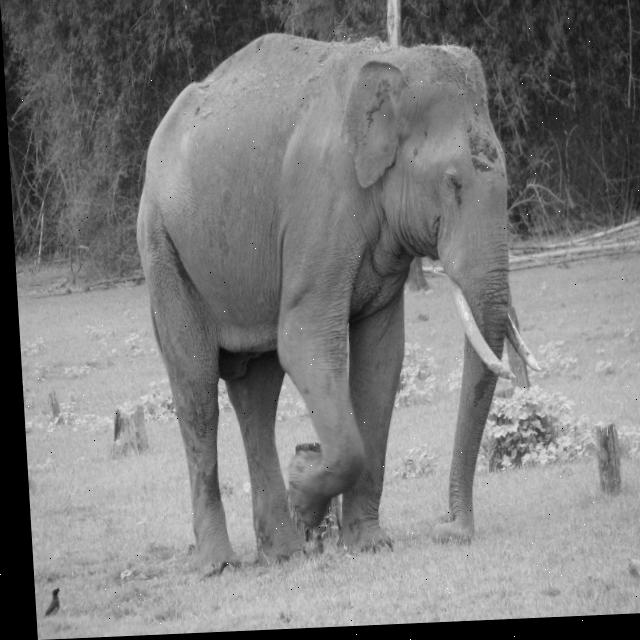Elephant: (124, 20, 553, 581)
